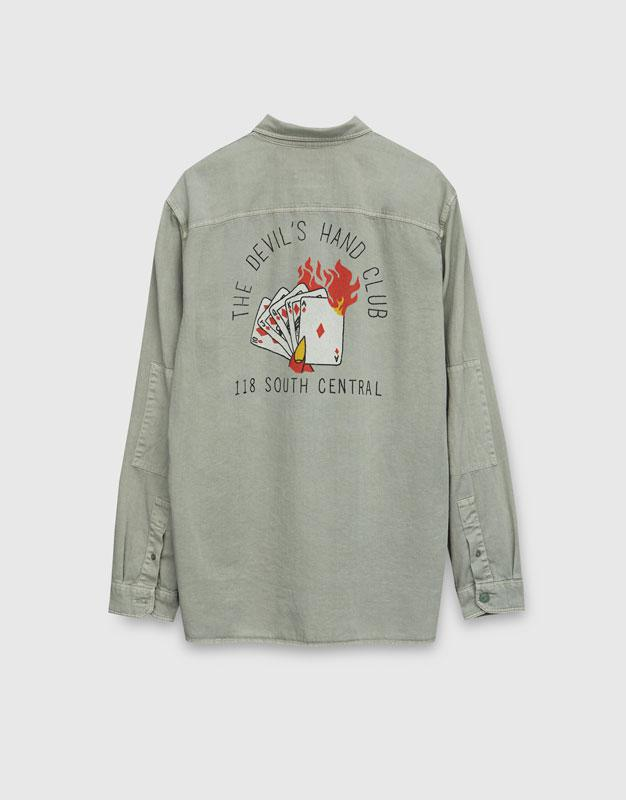teeshirt: (100, 107, 533, 663)
